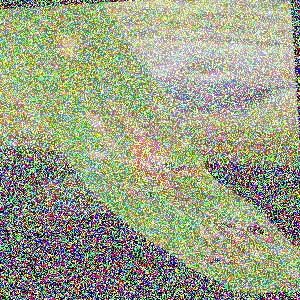Brown_Spot: (206, 204, 276, 251), (143, 93, 195, 154), (183, 243, 254, 280), (127, 153, 193, 186), (121, 175, 166, 210)
